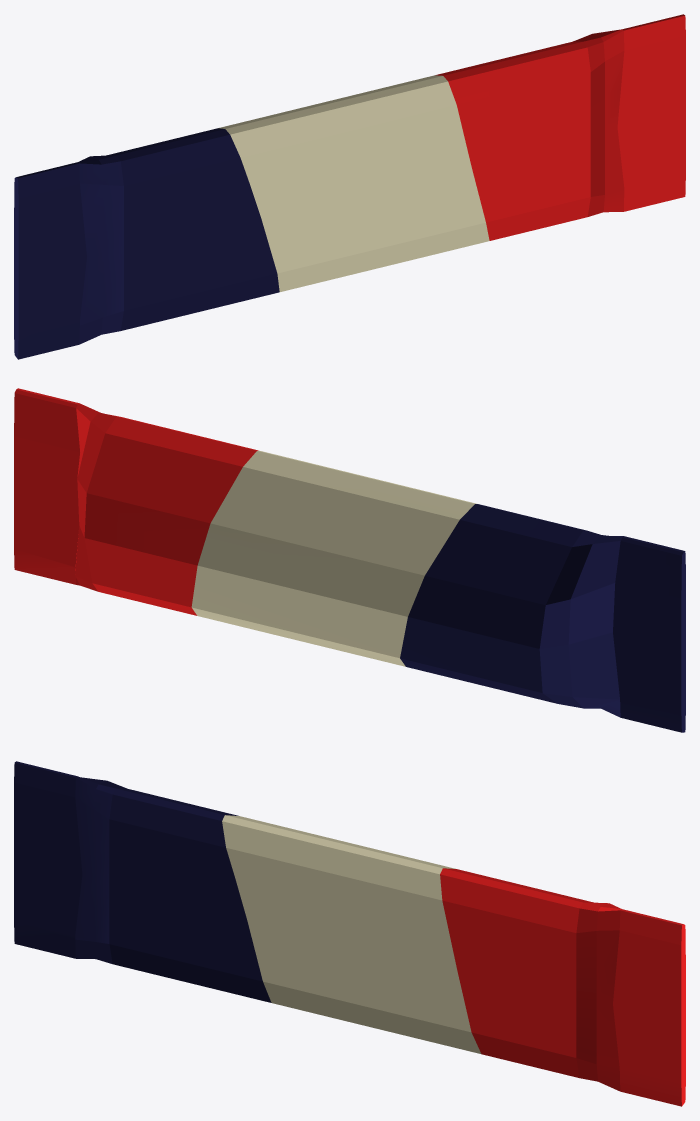
File: Chocolate Bar 3.fbx
The picture shows the model from 3 angles, top to bottom: view 1: azimuth 30°, elevation 25°; view 2: azimuth 150°, elevation 25°; view 3: azimuth 330°, elevation 25°; orthographic projection.
Visible parts, largest first — view 1: Node 0; view 2: Node 0; view 3: Node 0.
Part boxes in pixels (x1,y1,x2,y2): Node 0: [14, 14, 685, 359]; Node 0: [14, 388, 685, 732]; Node 0: [14, 761, 685, 1106].
Size of the model in its own units: 0.0171 by 0.038 by 0.1464.
